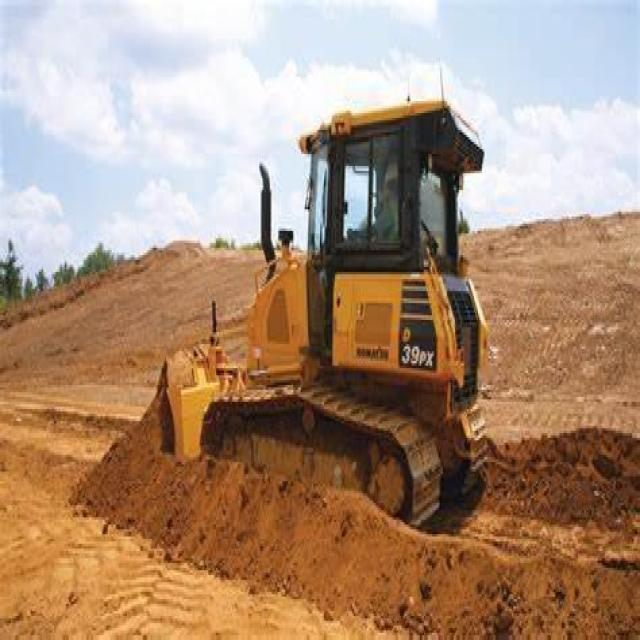buldozerpayloadergrader: (162, 84, 531, 510)
